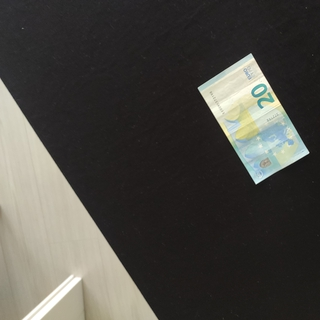20EUROBack: (197, 53, 310, 185)
